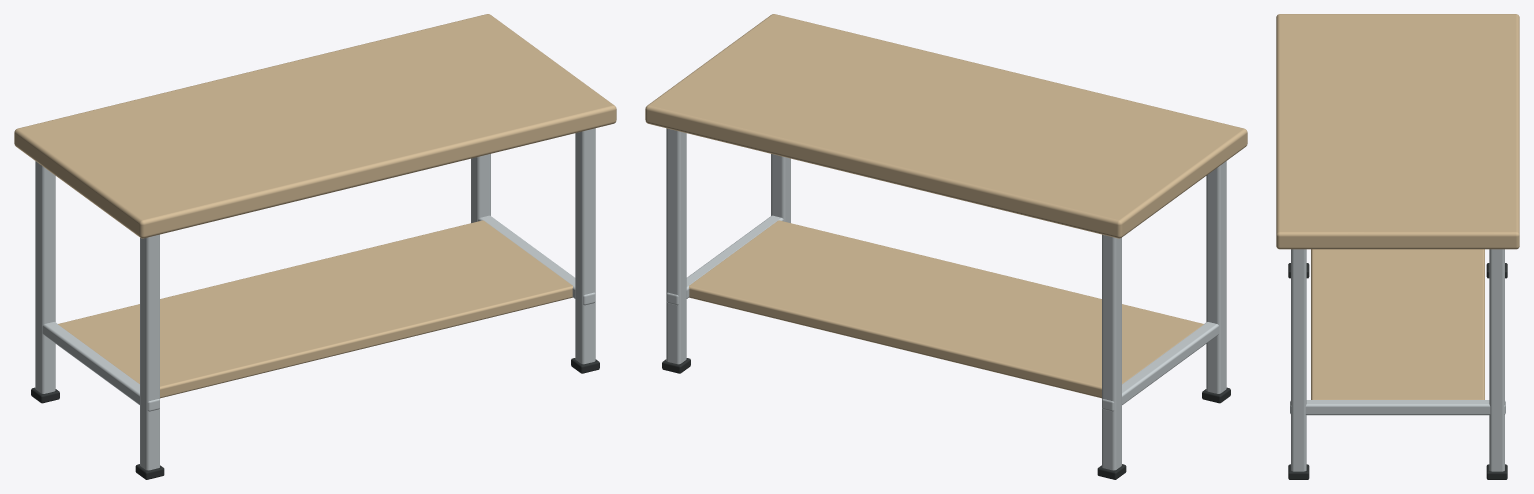
Rendered from tabletop-hobby-store-and-club-cutting-workstation-055db94e__31586.glb.
3 views of the same model, side by side, from view 1: azimuth 30°, elevation 25°; view 2: azimuth 150°, elevation 25°; view 3: azimuth 270°, elevation 25° (orthographic). The views are drawn at different scales.
Parts seen in each view (by area): view 1: cutting-workstation; view 2: cutting-workstation; view 3: cutting-workstation.
Part boxes in pixels (x1,y1,x2,y2): cutting-workstation: (14,14,616,479); cutting-workstation: (645,14,1247,479); cutting-workstation: (1276,14,1519,479).
Size of the model in its own units: 1.5 by 0.8 by 0.6999.
